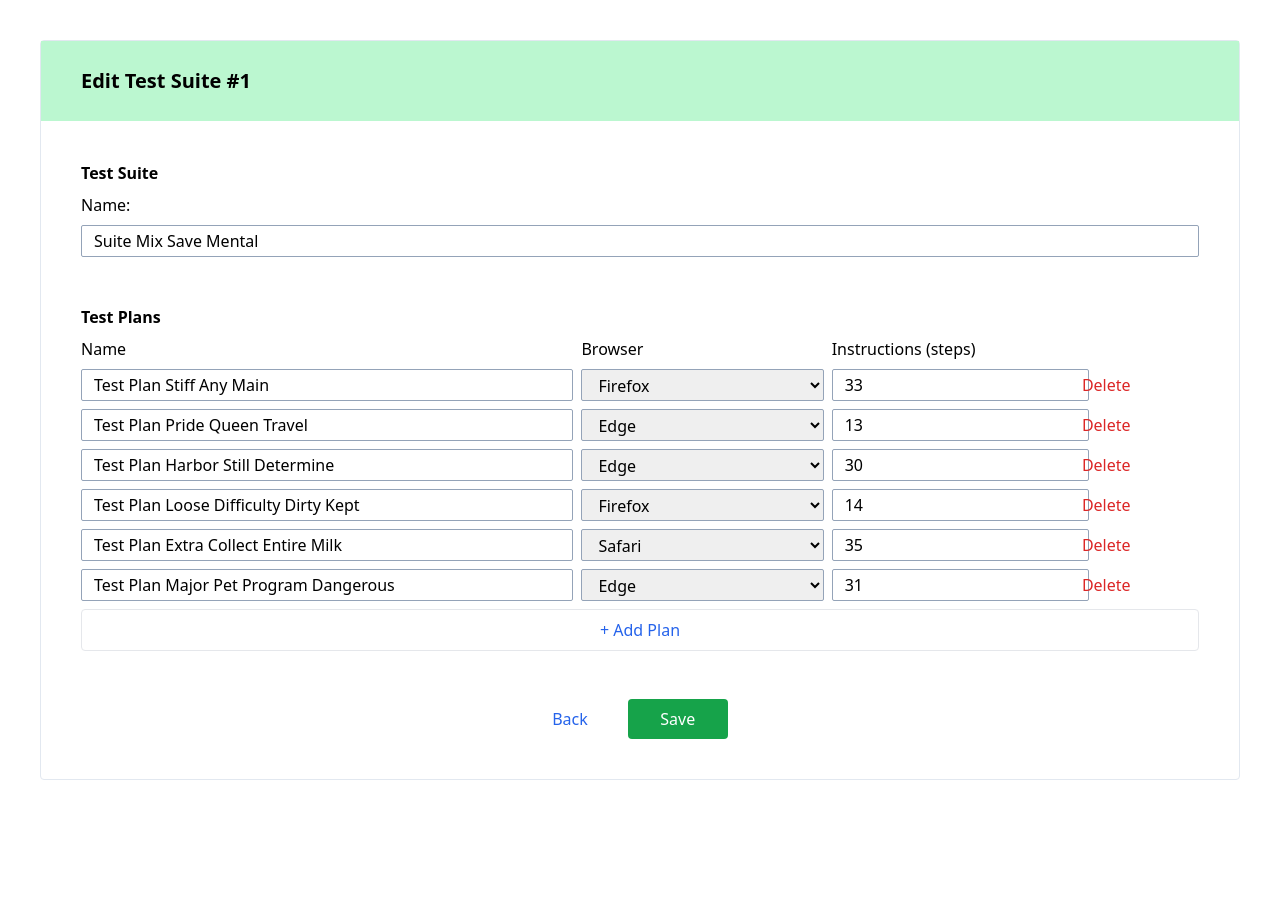
Test: TestSuiteEdit Component › allows to add a new test plan
Expected: the number of elements with test id "edit-form-test-plan" is 6, [81,369,1199,401]; [81,409,1199,441]; [81,449,1199,481]; [81,489,1199,521]; [81,529,1199,561]; [81,569,1199,601]
Click the button with test id "edit-plan-add": (640, 630) [81,609,1199,651]
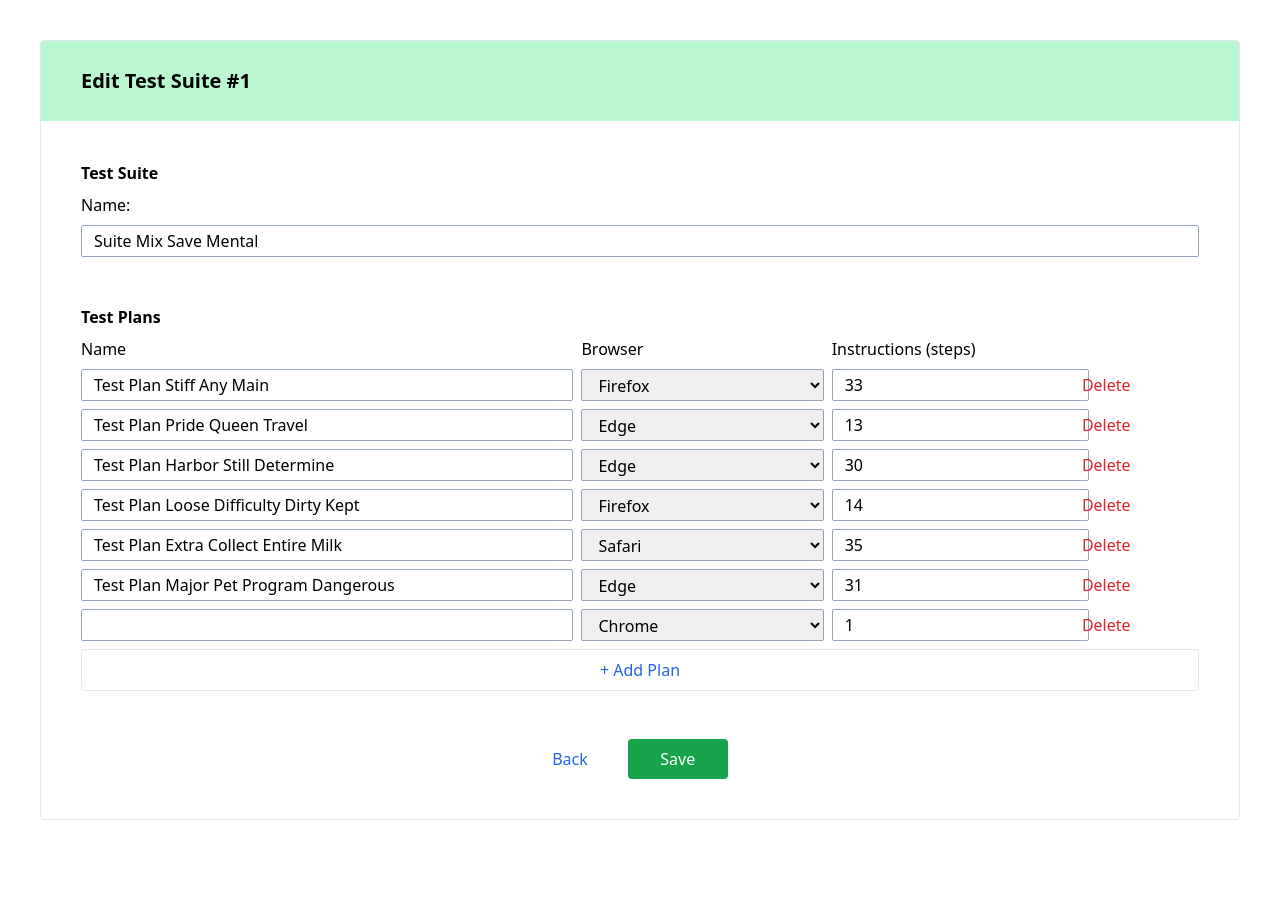
Result: the number of elements with test id "edit-form-test-plan" is 7
Click the button with test id "edit-plan-add": (640, 670) [81,649,1199,691]
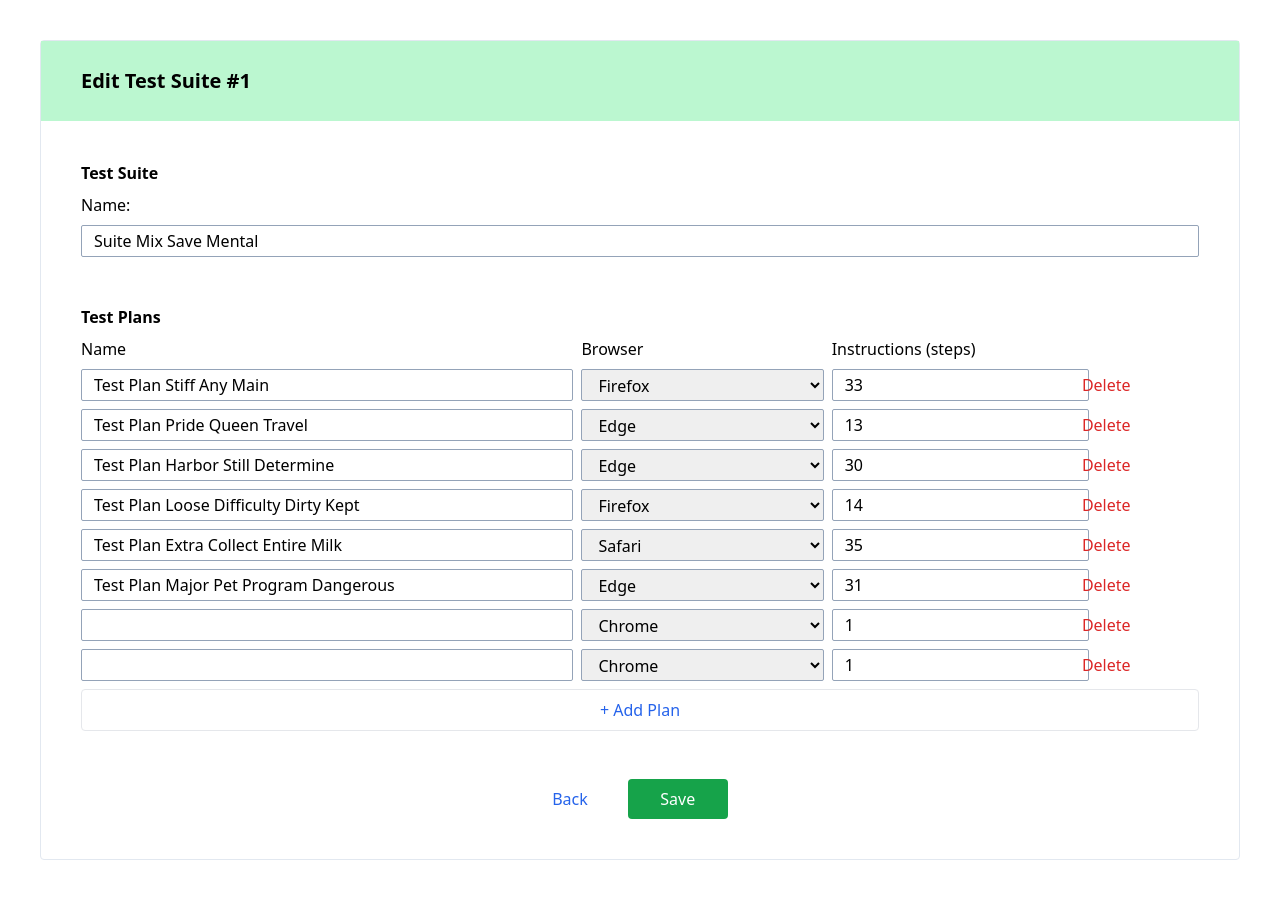
Result: the number of elements with test id "edit-form-test-plan" is 8
